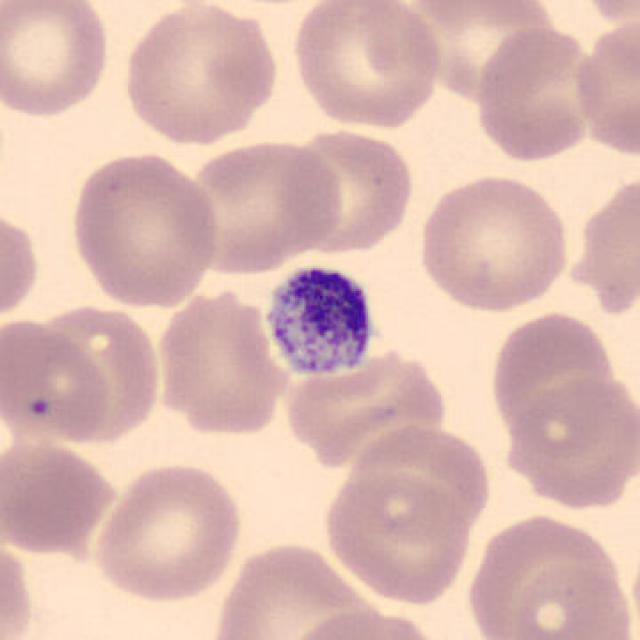Platelets: (258, 256, 386, 388)
RBC: (66, 147, 224, 310), (117, 0, 283, 148), (179, 136, 345, 277), (89, 456, 247, 604), (414, 169, 572, 316), (149, 280, 295, 439), (318, 467, 478, 608), (464, 509, 624, 640), (283, 349, 452, 472), (288, 0, 444, 132), (486, 303, 622, 453), (31, 300, 166, 451), (498, 372, 640, 513), (471, 19, 605, 164), (340, 420, 496, 543), (284, 121, 418, 258), (206, 537, 382, 640), (402, 0, 565, 104), (2, 432, 121, 557), (2, 316, 114, 446), (0, 0, 114, 122), (507, 557, 638, 640), (569, 11, 640, 160), (578, 174, 640, 318), (281, 606, 448, 640), (0, 203, 43, 326), (400, 0, 564, 32), (0, 530, 37, 640), (572, 0, 639, 26)
